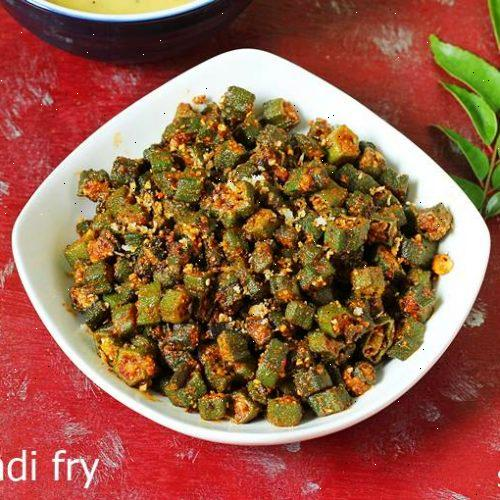bhindi: (90, 113, 403, 403)
